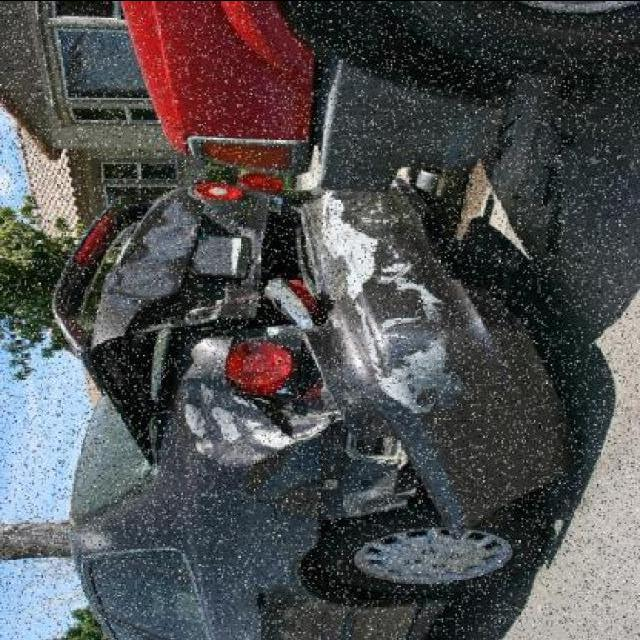quaterpanel-dent: (180, 393, 359, 574)
rear-bumper-dent: (334, 249, 561, 517)
